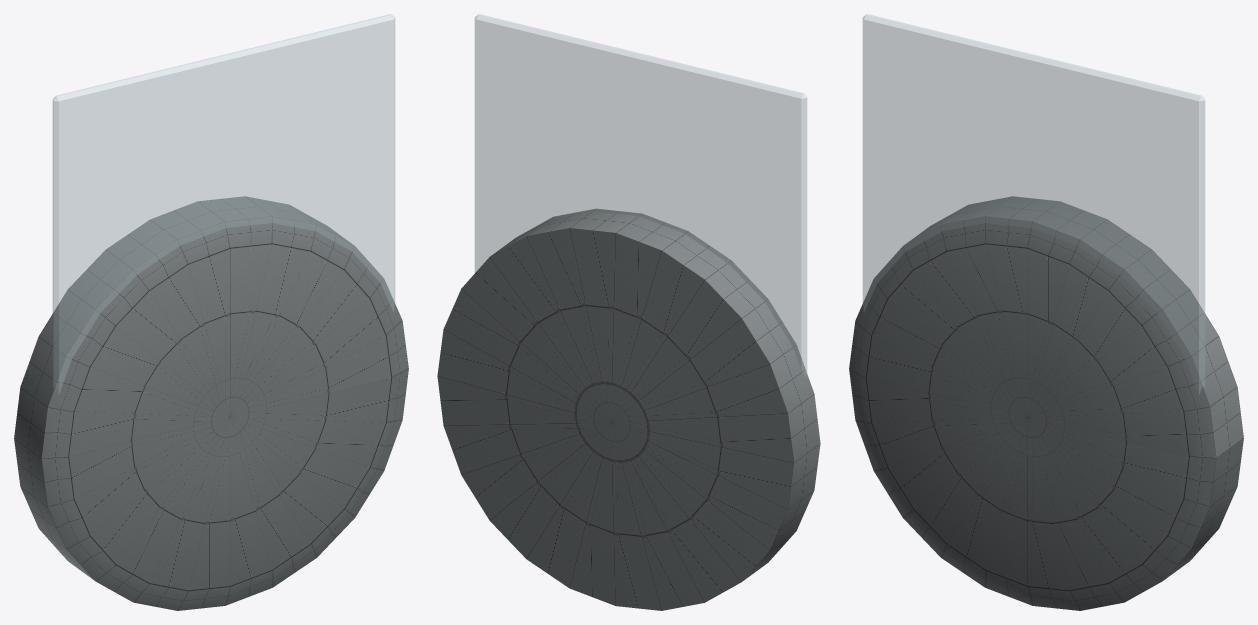
The model's file is japanese-school-and-city-street-wall-clock-school-1786617a__30087.glb.
3 views of the same model, side by side, from view 1: azimuth 30°, elevation 25°; view 2: azimuth 150°, elevation 25°; view 3: azimuth 330°, elevation 25° (orthographic). The views are drawn at different scales.
Visible parts, largest first — view 1: wall-clock-school; view 2: wall-clock-school; view 3: wall-clock-school.
Part boxes in pixels (x1,y1,x2,y2): wall-clock-school: (14, 14, 408, 610); wall-clock-school: (437, 14, 820, 610); wall-clock-school: (849, 14, 1243, 610).
Bounding box in the file's own units: 0.34 × 0.4862 × 0.058.
3 materials, 1 textured.
